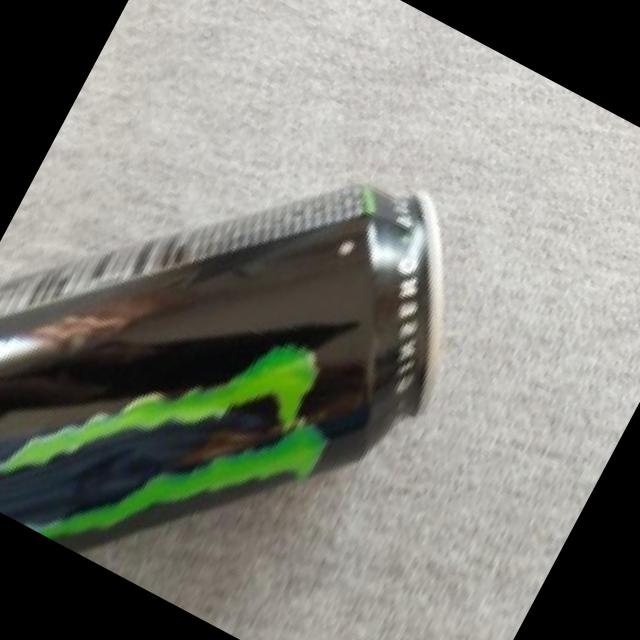Kaleng: (0, 28, 511, 640)
